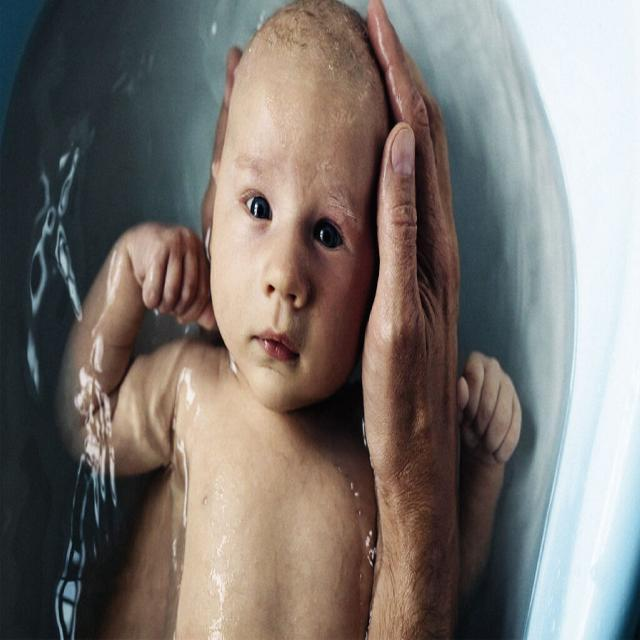non-dog: (69, 1, 525, 634)
